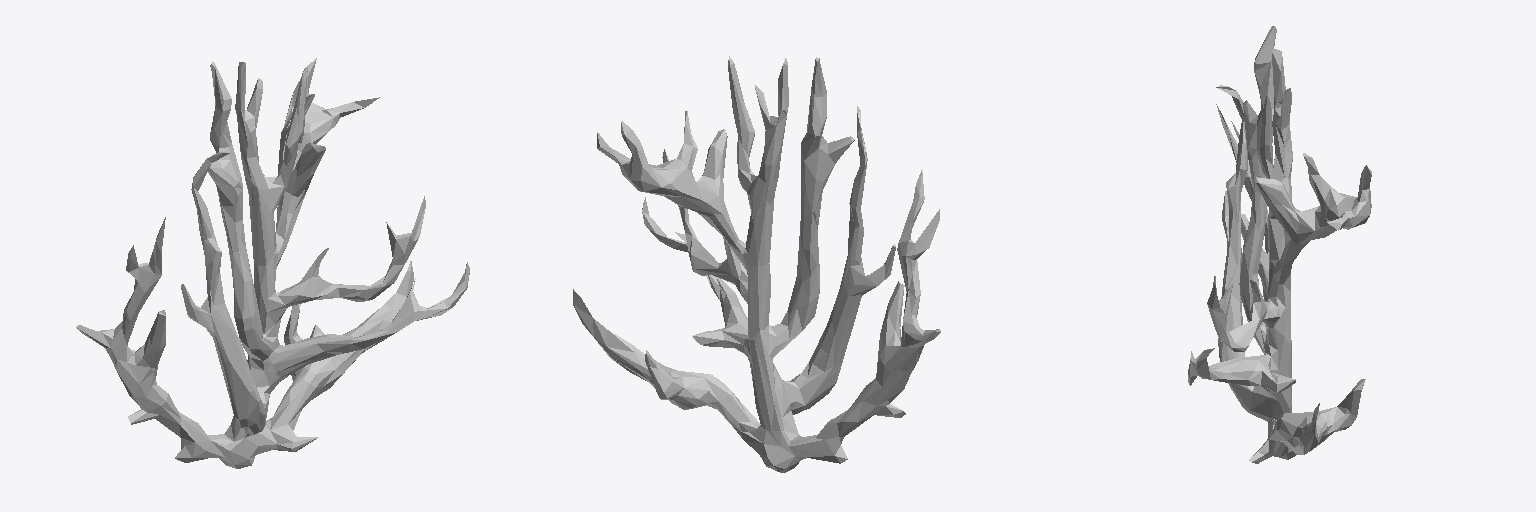
File: Coral_Branch_1.obj
The picture shows the model from 3 angles: view 1: azimuth 30°, elevation 25°; view 2: azimuth 150°, elevation 25°; view 3: azimuth 270°, elevation 25°; orthographic projection.
Visible parts, largest first — view 1: pCube2; view 2: pCube2; view 3: pCube2.
Part boxes in pixels (x1,y1,x2,y2): pCube2: (76, 58, 469, 468); pCube2: (573, 56, 940, 472); pCube2: (1188, 26, 1371, 463).
Bounding box in the file's own units: 3.77 × 4.25 × 1.71.